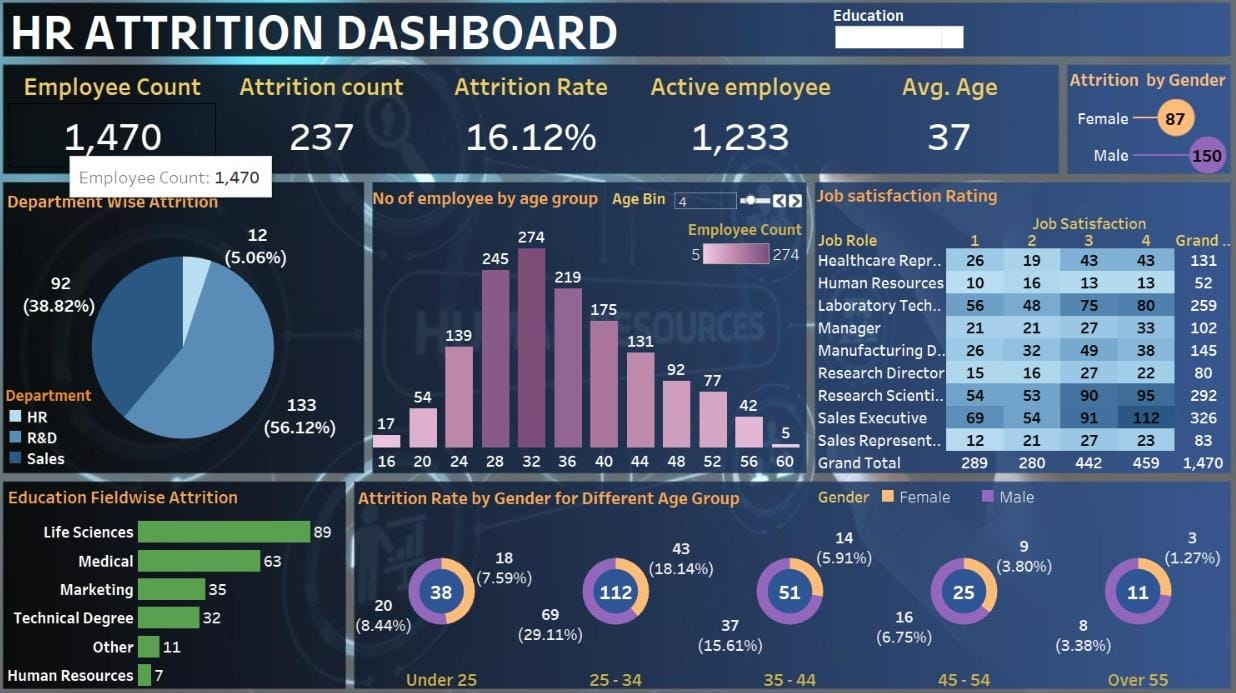

The page's visual inventory and layout, read from the dashboard file:
{"tool":"tableau","page":{"name":"HR analytics Dashboard","canvas":[1000,1000],"units":"permille","ordinal":0},"visuals":[{"type":"image","param":"Image/HR background.pptx.jpg","box":[5.2,9.3,989.7,981.4]},{"type":"text","box":[27.1,20.9,518.1,77.9]},{"type":"filter","title":"Department Wise Attrition","param":"[federated.01hqwfk1vnnp3219nrvc00uuwd3k].[none:Education:nk]","box":[667.1,23.3,103.2,61.6]},{"type":"worksheet","title":"Attrition  by Gender","mark":"Automatic","rows":["Gender"],"cols":["Calculation_601230583174197248","Calculation_601230583174197248"],"box":[847.7,107,127.1,152.3]},{"type":"worksheet","title":"KPI","mark":"Automatic","box":[28.4,112.8,810.3,139.5]},{"type":"worksheet","title":"Job satisfaction Rating","mark":"Square","rows":["Job Role"],"cols":["Job Satisfaction"],"box":[651.6,268.6,324.5,409.3]},{"type":"worksheet","title":"No of employee by age group","mark":"Automatic","rows":["Employee Count"],"cols":["Age (bin)"],"box":[307.7,272.1,336.8,403.5]},{"type":"worksheet","title":"Department Wise Attrition","mark":"Pie","box":[25.2,276.7,277.4,402.3]},{"type":"parameter","param":"[Parameters].[Parameter 1]","box":[496.1,282.6,149,33.7]},{"type":"legend","title":"No of employee by age group","param":"[federated.01hqwfk1vnnp3219nrvc00uuwd3k].[sum:Employee Count:qk]","box":[554.8,322.1,89.7,79.1]},{"type":"legend","title":"Department Wise Attrition","param":"[federated.01hqwfk1vnnp3219nrvc00uuwd3k].[none:Department:nk]","box":[26.4,553.5,90.3,117.4]},{"type":"worksheet","title":"Education Fieldwise Attrition","mark":"Automatic","rows":["Education Field"],"cols":["Calculation_601230583174197248"],"box":[25.8,689.5,263.9,289.5]},{"type":"worksheet","title":"Attrition Rate by Gender for Different Age Group ","mark":"Pie","rows":["Calculation_601230583205728260","Calculation_601230583205728260"],"cols":["CF_age band"],"box":[296.8,690.7,674.2,291.9]},{"type":"legend","title":"Attrition Rate by Gender for Different Age Group ","param":"[federated.01hqwfk1vnnp3219nrvc00uuwd3k].[none:Gender:nk]","box":[655.5,695.4,297.4,38.4]}]}

Visuals, with their boxes on the dashboard's canvas, which has no fixed pixel size, in thousandths of its width and height (x1, y1, x2, y2). These are canvas units, not pixel positions in the 1236x693 screenshot, which may show the page scaled, cropped or inside an application window:
image: 5, 9, 995, 991
text: 27, 21, 545, 99
"Department Wise Attrition" filter: 667, 23, 770, 85
"Attrition  by Gender" worksheet: 848, 107, 975, 259
"KPI" worksheet: 28, 113, 839, 252
"Job satisfaction Rating" worksheet (Square marks): 652, 269, 976, 678
"No of employee by age group" worksheet: 308, 272, 644, 676
"Department Wise Attrition" worksheet (Pie marks): 25, 277, 303, 679
parameter: 496, 283, 645, 316
"No of employee by age group" legend: 555, 322, 644, 401
"Department Wise Attrition" legend: 26, 554, 117, 671
"Education Fieldwise Attrition" worksheet: 26, 690, 290, 979
"Attrition Rate by Gender for Different Age Group " worksheet (Pie marks): 297, 691, 971, 983
"Attrition Rate by Gender for Different Age Group " legend: 656, 695, 953, 734
